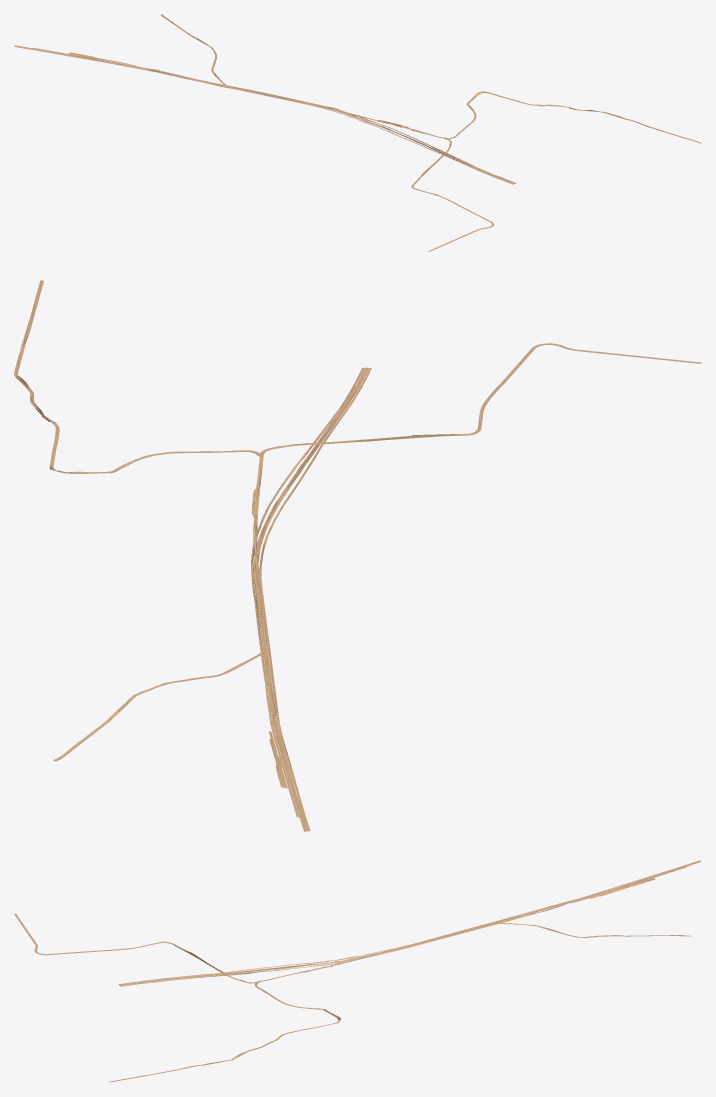
File: rail.glb
The picture shows the model from 3 angles, top to bottom: view 1: azimuth 30°, elevation 25°; view 2: azimuth 150°, elevation 25°; view 3: azimuth 270°, elevation 25°; orthographic projection. The views are drawn at different scales.
Visible parts, largest first — view 1: rail; view 2: rail; view 3: rail.
Boxes of the visible parts, x1,y1,x2,y2 form: rail: (14,14,701,251); rail: (14,280,701,831); rail: (14,860,701,1082).
Size of the model in its own units: 2228 by 13.16 by 2915.
